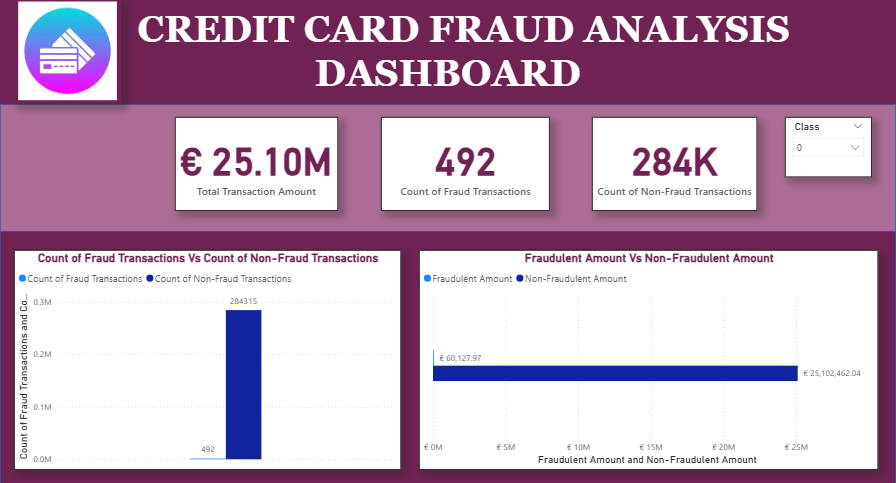

The page's visual inventory and layout, read from the dashboard file:
{"tool":"powerbi","page":{"name":"Page 1","canvas":[1280,720],"ordinal":0},"visuals":[{"type":"textbox","box":[97.4,35.3,1105.3,95.7],"z":0},{"type":"textbox","box":[1122,170,150,150],"z":1000},{"type":"shape","box":[0,151.4,1280,208.6],"z":2000},{"type":"textbox","box":[0,0,1280,151.7],"z":3000},{"type":"image","box":[20,0,152.9,151.4],"z":4000},{"type":"shape","box":[0,332.6,1280,361.2],"z":5000},{"type":"card","fields":{"Values":["Credit card fraud detection1.Number of Non-Fraud Transactions"]},"box":[845.7,170,235.7,134.3],"z":6000},{"type":"clusteredColumnChart","title":"Count of Fraud Transactions Vs Count of Non-Fraud Transactions","fields":{"Y":["Credit card fraud detection1.Count of Fraud Transactions","Credit card fraud detection1.Count of Non-Fraud Transactions"]},"box":[20,360,552.9,314.3],"z":7000},{"type":"clusteredBarChart","title":"Fraudulent Amount Vs Non-Fraudulent Amount","fields":{"Y":["Credit card fraud detection1.Fraudulent Amount","Credit card fraud detection1.Non-Fraudulent Amount"]},"box":[598.6,360,655.7,314.3],"z":8000},{"type":"slicer","fields":{"Values":["Credit card fraud detection1.Class"]},"box":[1121.4,170,124.3,85.7],"z":9000},{"type":"card","fields":{"Values":["Credit card fraud detection1.Count of Fraud Transactions"]},"box":[544.3,170,241.4,134.3],"z":10000},{"type":"card","fields":{"Values":["Sum(Credit card fraud detection1.Amount)"]},"box":[250,170,232.9,134.3],"z":11000}]}

Visuals, with their boxes on the page's 1280x720 design canvas (x1, y1, x2, y2). These are canvas units, not pixel positions in the 896x483 screenshot, which may show the page scaled, cropped or inside an application window:
textbox: Rect(97, 35, 1203, 131)
textbox: Rect(1122, 170, 1272, 320)
shape: Rect(0, 151, 1280, 360)
textbox: Rect(0, 0, 1280, 152)
image: Rect(20, 0, 173, 151)
shape: Rect(0, 333, 1280, 694)
card - Credit card fraud detection1.Number of Non-Fraud Transactions: Rect(846, 170, 1081, 304)
"Count of Fraud Transactions Vs Count of Non-Fraud Transactions" clusteredColumnChart: Rect(20, 360, 573, 674)
"Fraudulent Amount Vs Non-Fraudulent Amount" clusteredBarChart: Rect(599, 360, 1254, 674)
slicer - Credit card fraud detection1.Class: Rect(1121, 170, 1246, 256)
card - Credit card fraud detection1.Count of Fraud Transactions: Rect(544, 170, 786, 304)
card - Sum(Credit card fraud detection1.Amount): Rect(250, 170, 483, 304)
